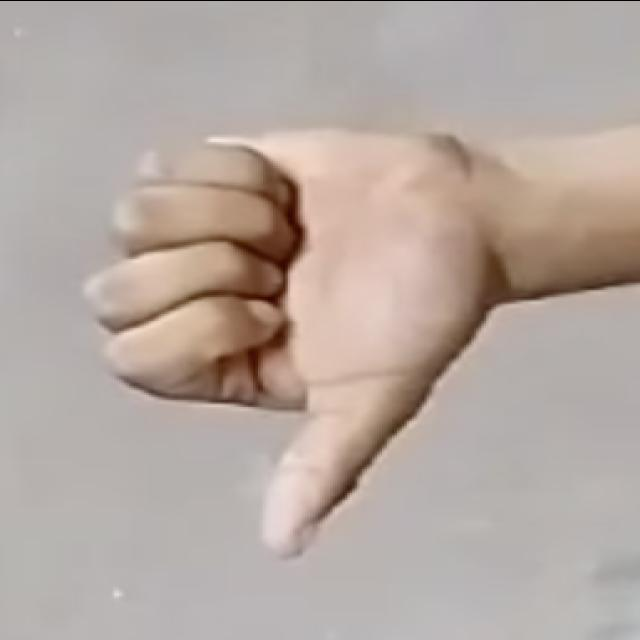A: (70, 103, 501, 567)
